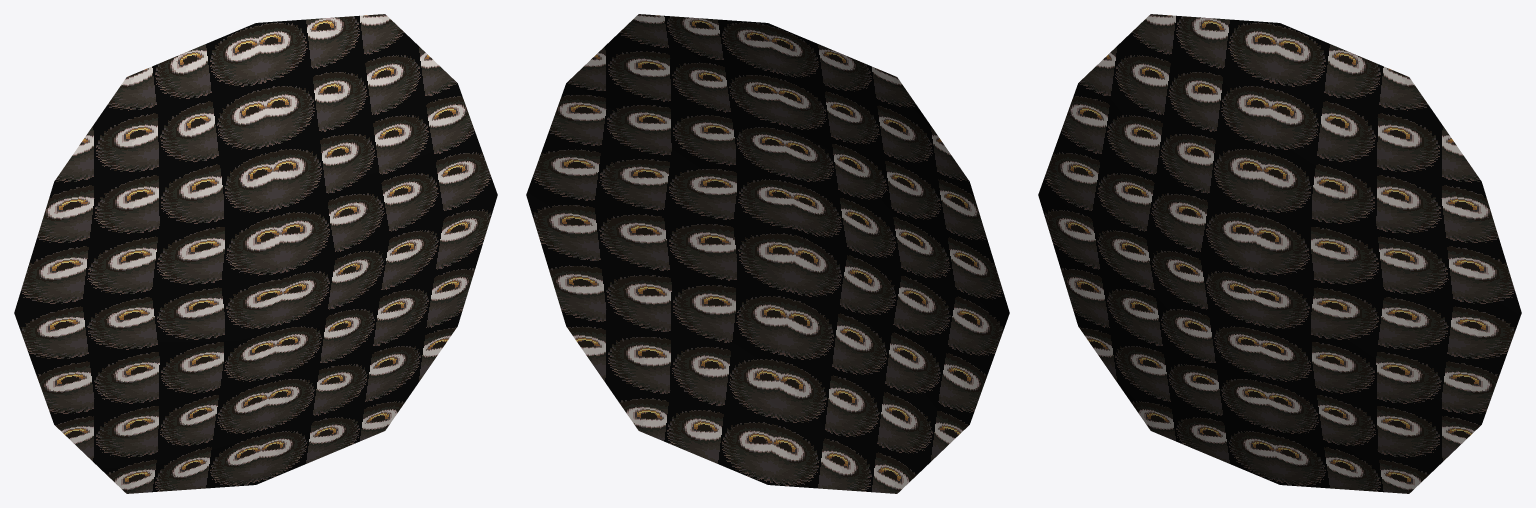
Rendered from 5049musi59_e.gltf.
3 renders of one model, left to right at view 1: azimuth 30°, elevation 25°; view 2: azimuth 150°, elevation 25°; view 3: azimuth 330°, elevation 25°, orthographic.
Parts seen in each view (by area): view 1: 5049musi59_e; view 2: 5049musi59_e; view 3: 5049musi59_e.
Boxes of the visible parts, x1,y1,x2,y2 form: 5049musi59_e: [14, 14, 497, 493]; 5049musi59_e: [526, 14, 1009, 493]; 5049musi59_e: [1038, 14, 1521, 493].
Size of the model in its own units: 0.2686 by 0.2451 by 0.0283.
1 material, 1 textured.
